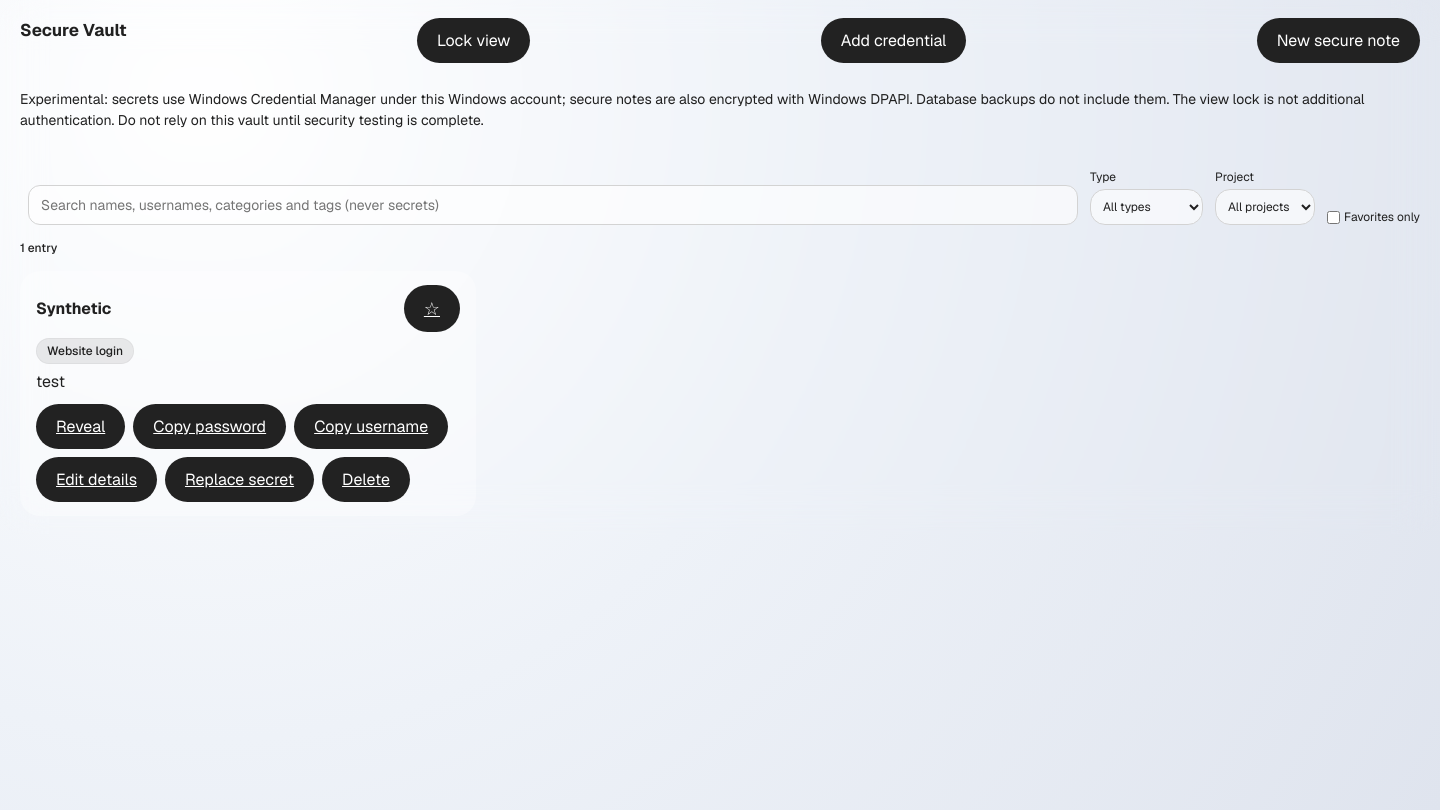
credentials remain masked until explicitly revealed
The width and height of the screenshot is (1440, 810).
Expected: the text "Synthetic" is shown, [36,298,111,319]
Click the button "Reveal" at (81, 426), box [36,404,125,449]
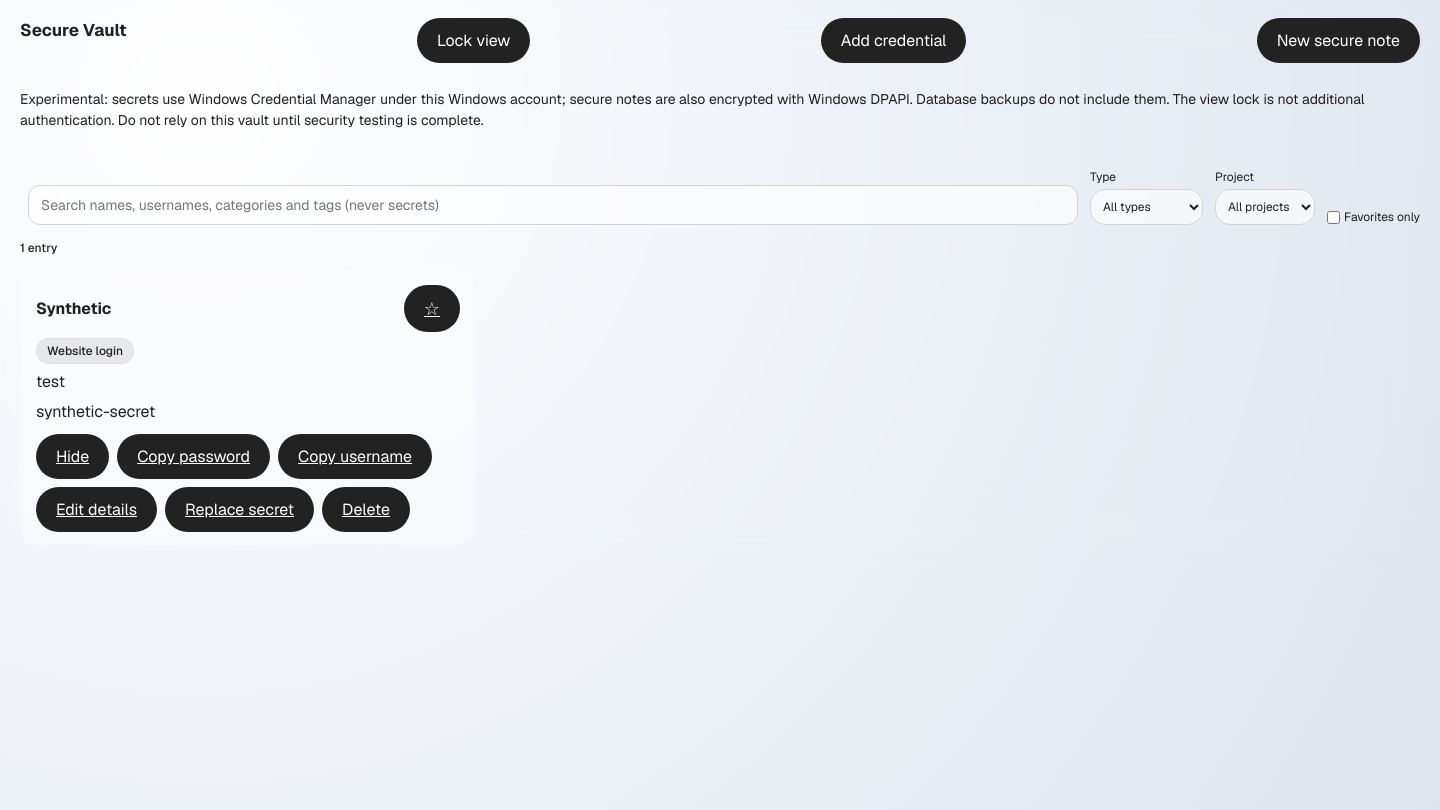
Now the text "synthetic-secret" is shown, box [36,401,155,422]
Click the button "Hide" at (73, 456), box [36,434,109,479]
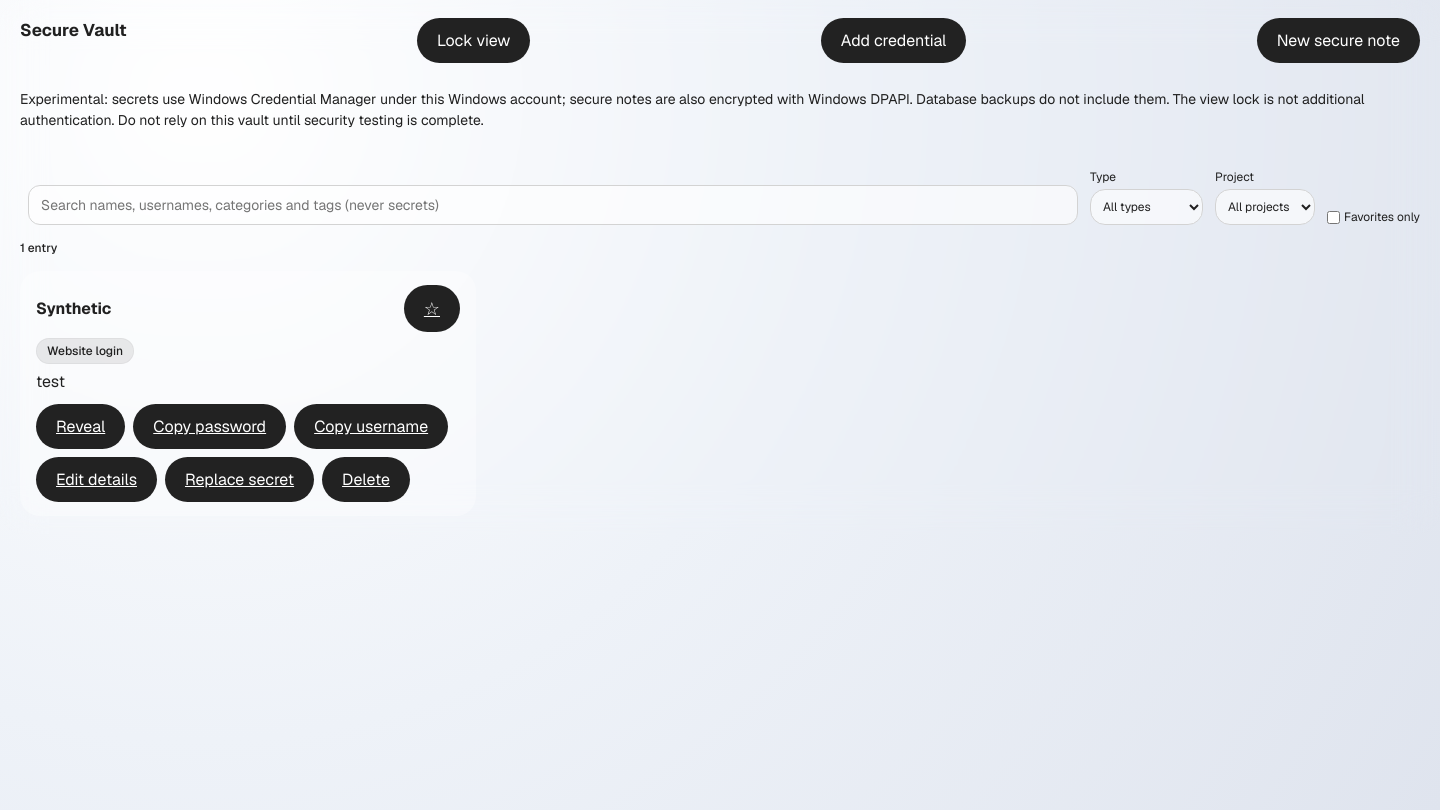
Now the text "synthetic-secret" is gone
